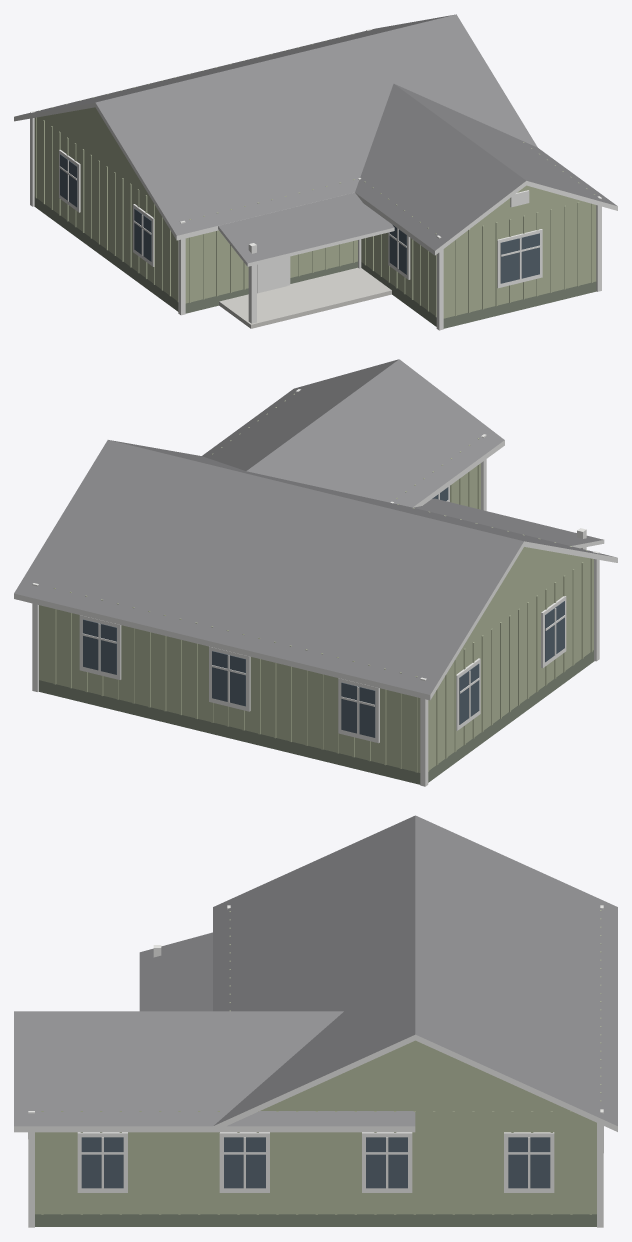
File: kingsburg-sage.glb
3 renders of one model, top to bottom at view 1: azimuth 30°, elevation 25°; view 2: azimuth 150°, elevation 25°; view 3: azimuth 270°, elevation 25°, orthographic. The views are drawn at different scales.
Visible parts, largest first — view 1: The Kingsburg (sage); view 2: The Kingsburg (sage); view 3: The Kingsburg (sage).
Part boxes in pixels (x1,y1,x2,y2): The Kingsburg (sage): (14,14,617,330); The Kingsburg (sage): (14,359,617,786); The Kingsburg (sage): (14,815,617,1227).
Size of the model in its own units: 11.12 by 4.73 by 12.95.
